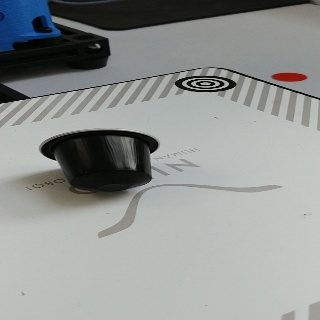capsule_10: (38, 127, 161, 193)
